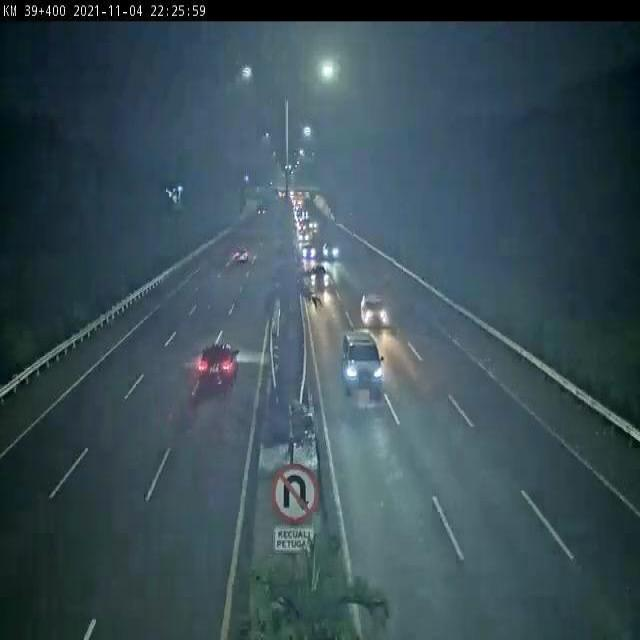car: (341, 329, 383, 396), (200, 345, 239, 384), (362, 293, 390, 328), (310, 267, 328, 285), (323, 242, 340, 258), (235, 248, 250, 264), (301, 244, 315, 257), (299, 230, 310, 242)
